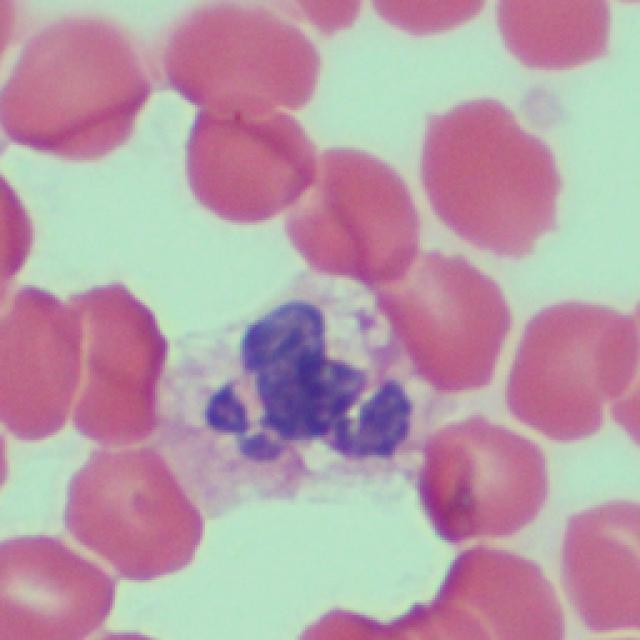RBC: (411, 79, 554, 261), (10, 1, 156, 161), (60, 272, 174, 474), (370, 250, 510, 408), (178, 75, 316, 228), (286, 138, 422, 293), (67, 442, 213, 586), (408, 409, 542, 557), (512, 287, 632, 451), (155, 0, 328, 111), (0, 282, 72, 469), (429, 542, 562, 638), (0, 527, 108, 640), (556, 494, 640, 635), (489, 0, 623, 76), (360, 0, 490, 38)
WBC: (197, 305, 419, 492)
